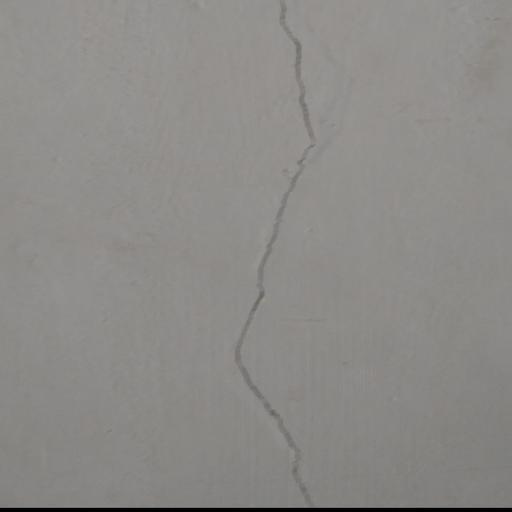minor_crack: (228, 0, 349, 512)
